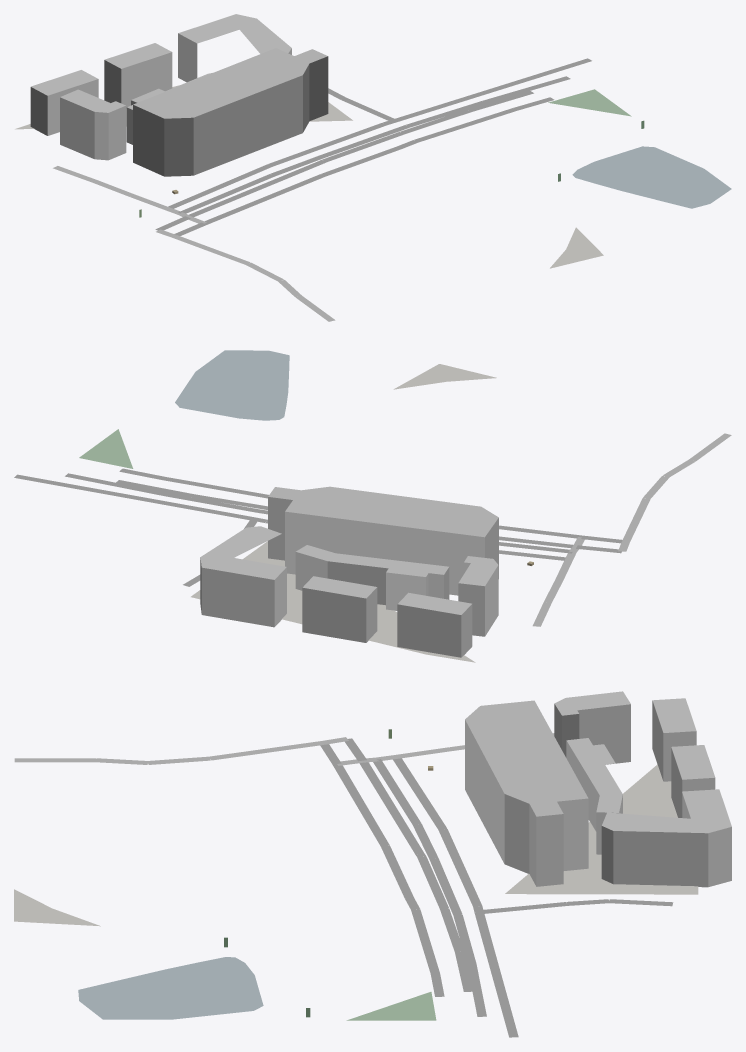
The picture shows the model from 3 angles, top to bottom: view 1: azimuth 30°, elevation 25°; view 2: azimuth 150°, elevation 25°; view 3: azimuth 270°, elevation 25°; orthographic projection. The views are drawn at different scales.
Size of the model in its own units: 528 by 57.42 by 525.
